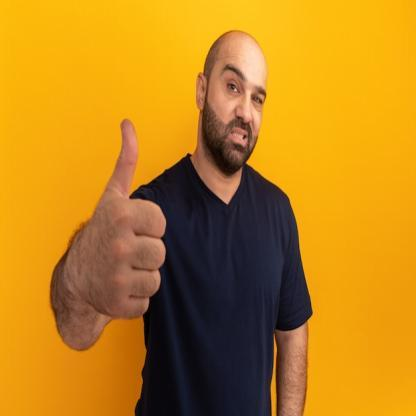thumb_up: (78, 113, 169, 324)
